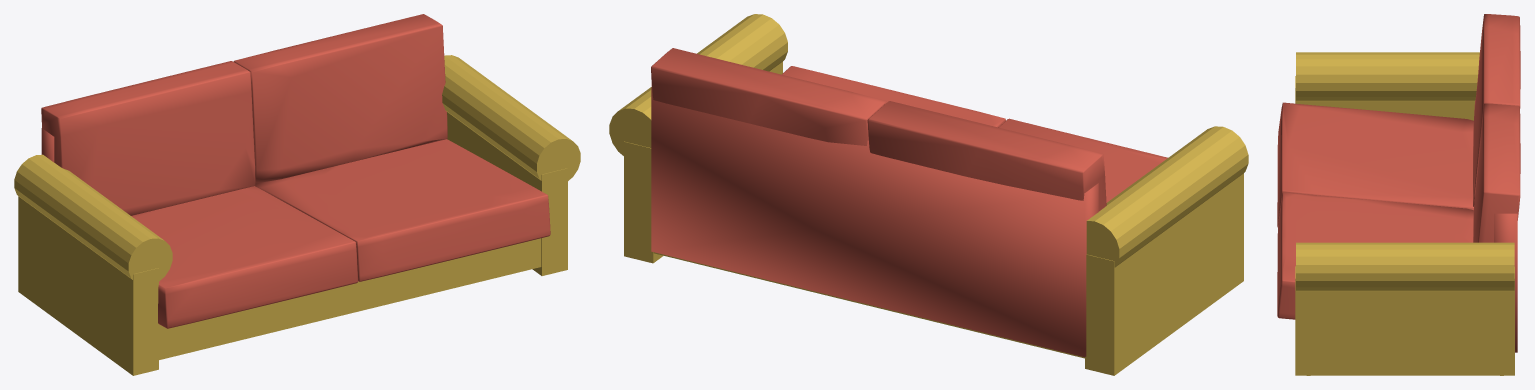
The model's file is sillon.fbx.
The picture shows the model from 3 angles, left to right: view 1: azimuth 30°, elevation 25°; view 2: azimuth 150°, elevation 25°; view 3: azimuth 270°, elevation 25°; orthographic projection. The views are drawn at different scales.
Parts seen in each view (by area): view 1: rugleuning_links_1, kussen_rechts, rugleuning_links, kussen_links, Cube_3, Cube_1, Cylinder_2_1.001, Cylinder_2_1, Cube_3.001; view 2: achterschot, Cube_3, rugleuning_links, rugleuning_links_1, Cylinder_2_1.001, Cylinder_2_1, Cube_3.001, kussen_links, kussen_rechts, Cube_1; view 3: Cube_3.001, kussen_links, Cylinder_2_1, kussen_rechts, Cylinder_2_1.001, rugleuning_links_1, rugleuning_links, Cube_3, achterschot.
Part boxes in pixels (box(x1,y1,x2,y2)): rugleuning_links_1: box(233, 14, 447, 183); kussen_rechts: box(255, 139, 550, 281); rugleuning_links: box(41, 61, 255, 215); kussen_links: box(131, 186, 358, 328); Cube_3: box(18, 196, 158, 375); Cube_1: box(159, 238, 541, 359); Cylinder_2_1.001: box(14, 154, 172, 281); Cylinder_2_1: box(442, 55, 580, 180); Cube_3.001: box(447, 112, 567, 275); achterschot: box(651, 87, 1098, 357); Cube_3: box(1085, 173, 1243, 375); rugleuning_links: box(867, 101, 1106, 211); rugleuning_links_1: box(651, 48, 886, 145); Cylinder_2_1.001: box(1086, 126, 1248, 267); Cylinder_2_1: box(609, 14, 787, 155); Cube_3.001: box(624, 61, 782, 263); kussen_links: box(998, 118, 1167, 202); kussen_rechts: box(782, 66, 1005, 127); Cube_1: box(653, 252, 1084, 358); Cube_3.001: box(1295, 266, 1514, 375); kussen_links: box(1277, 102, 1473, 227); Cylinder_2_1: box(1296, 242, 1514, 291); kussen_rechts: box(1277, 192, 1473, 319); Cylinder_2_1.001: box(1296, 52, 1479, 101); rugleuning_links_1: box(1473, 103, 1520, 242); rugleuning_links: box(1473, 14, 1520, 206); Cube_3: box(1295, 76, 1474, 120); achterschot: box(1494, 213, 1517, 352).
Bounding box in the file's own units: 507 × 197 × 247.
